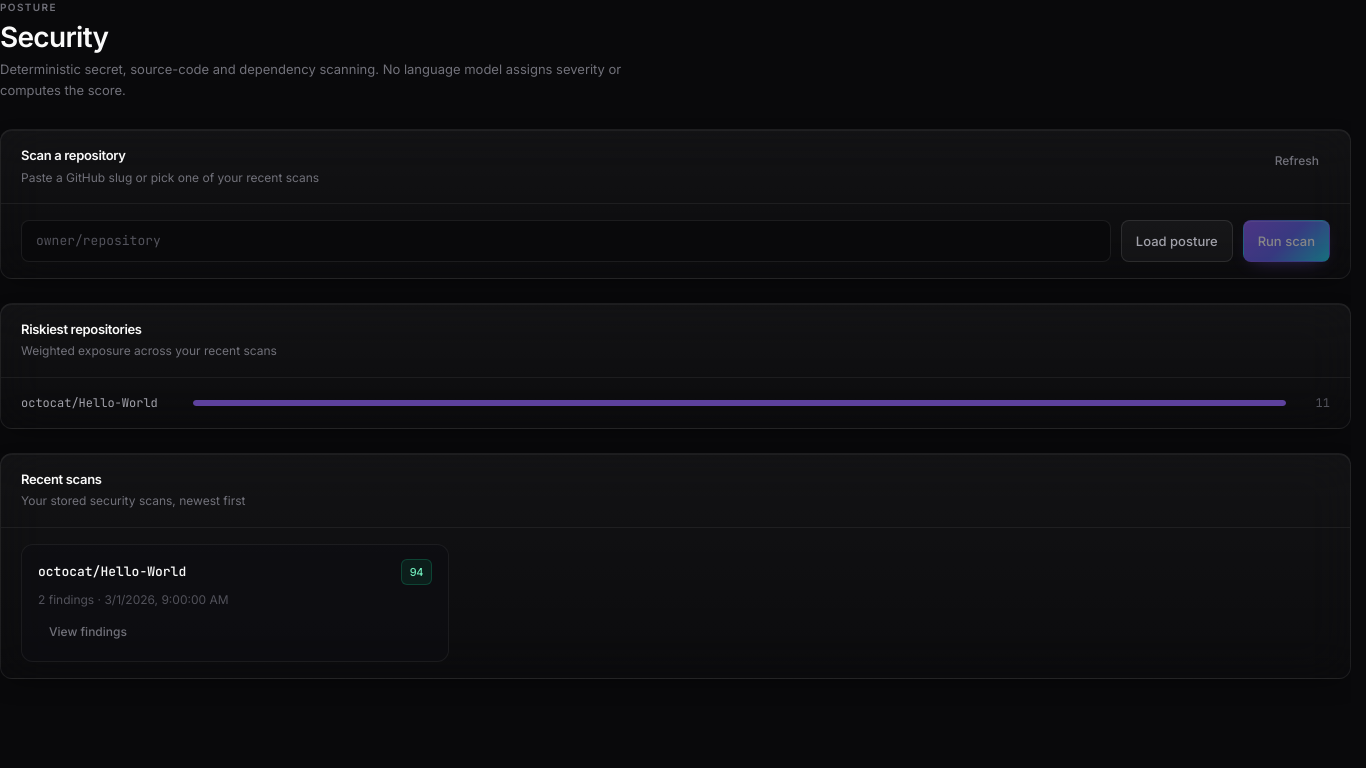
SecurityPage › loading a repository posture › weights the score deterministically and says so
Step 1. Type "octocat/Hello-World" into the field labelled "repository" → [566, 241], box x1=21 y1=220 x2=1111 y2=262
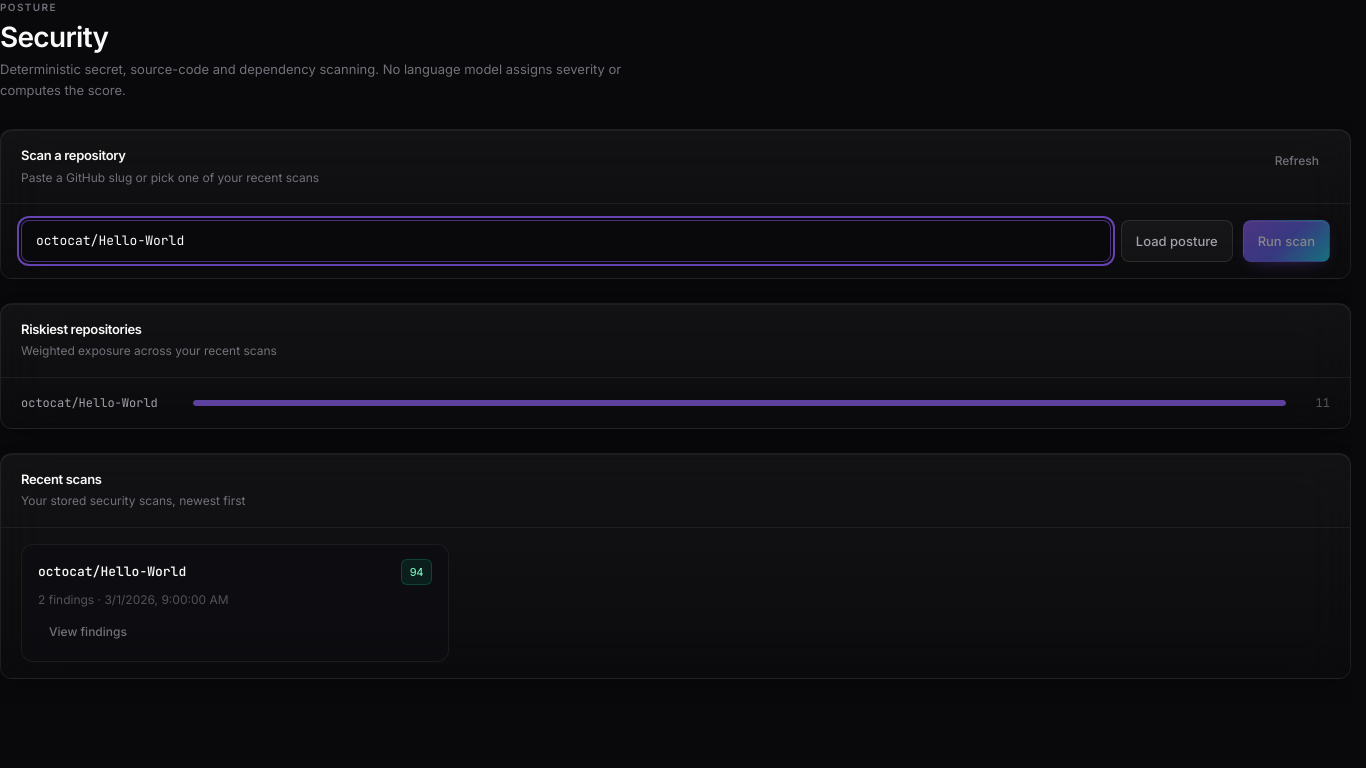
Step 2. Click the button "Load posture" → [1177, 241], box x1=1121 y1=220 x2=1233 y2=262
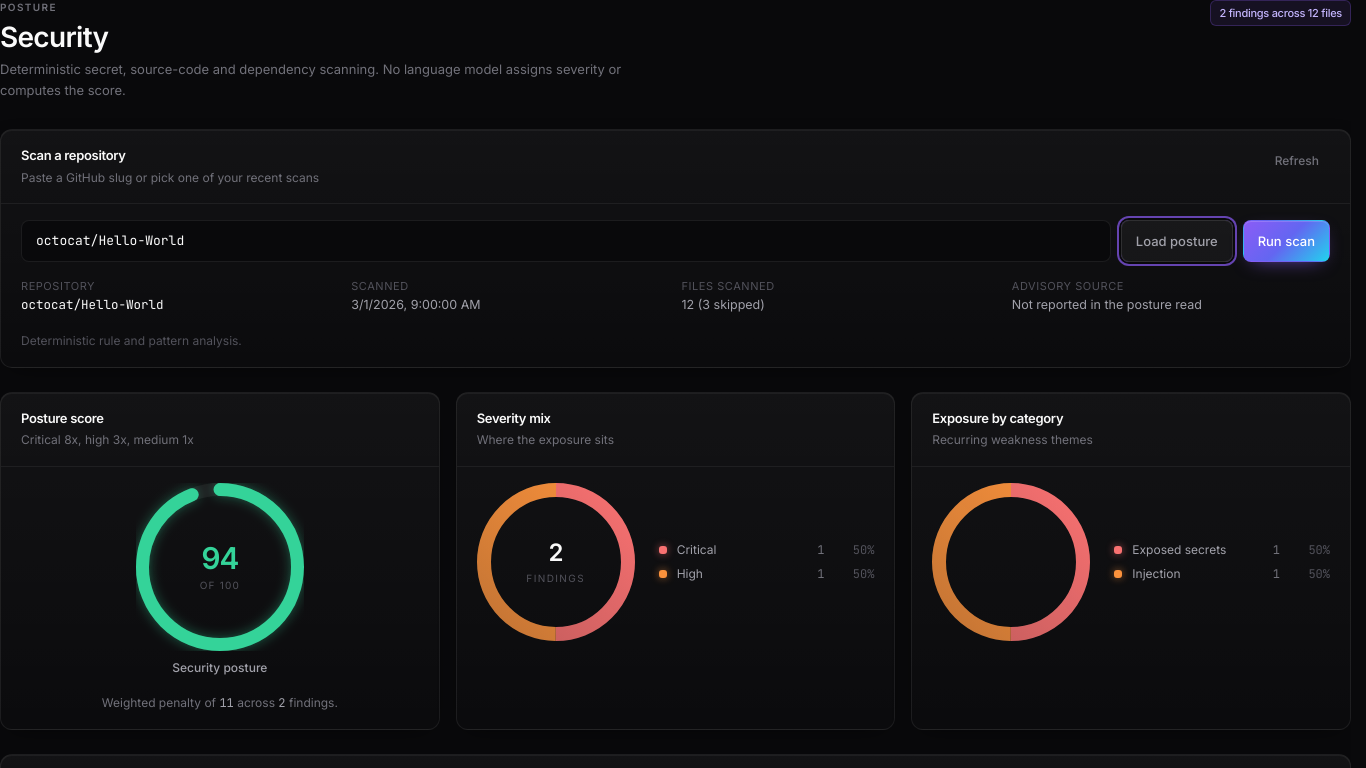
Expected: the text "Critical 8x, high 3x, medium 1x" is shown, x1=21 y1=430 x2=194 y2=450
